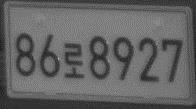2: (136, 37, 160, 83)
6: (39, 34, 59, 78)
7: (161, 38, 183, 84)
8: (88, 35, 110, 80), (15, 32, 36, 78)
9: (111, 35, 134, 80)
로: (62, 41, 85, 81)
